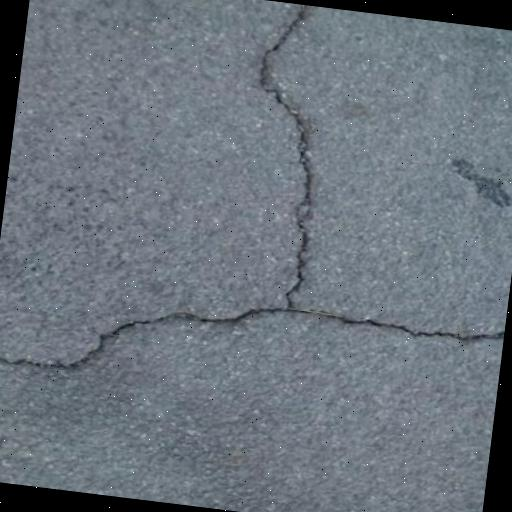spalling: (0, 294, 492, 386), (235, 2, 327, 300)
